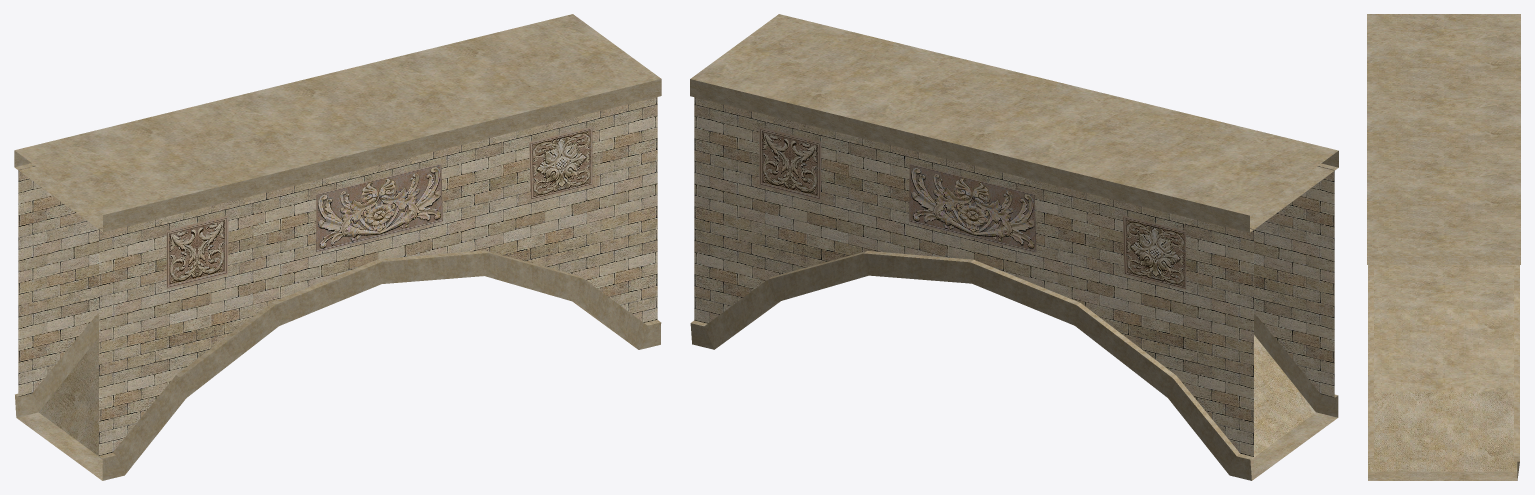
File: thm_nboo_imprv_archway_narrow_s02_l1.fbx
3 renders of one model, left to right at view 1: azimuth 30°, elevation 25°; view 2: azimuth 150°, elevation 25°; view 3: azimuth 270°, elevation 25°, orthographic. The views are drawn at different scales.
Parts seen in each view (by area): view 1: mesh_node; view 2: mesh_node; view 3: mesh_node.
Part boxes in pixels (<box>): mesh_node: <box>14,14,661,480</box>; mesh_node: <box>690,14,1338,480</box>; mesh_node: <box>1367,14,1520,480</box>.
Size of the model in its own units: 4 by 1.82 by 1.1.
